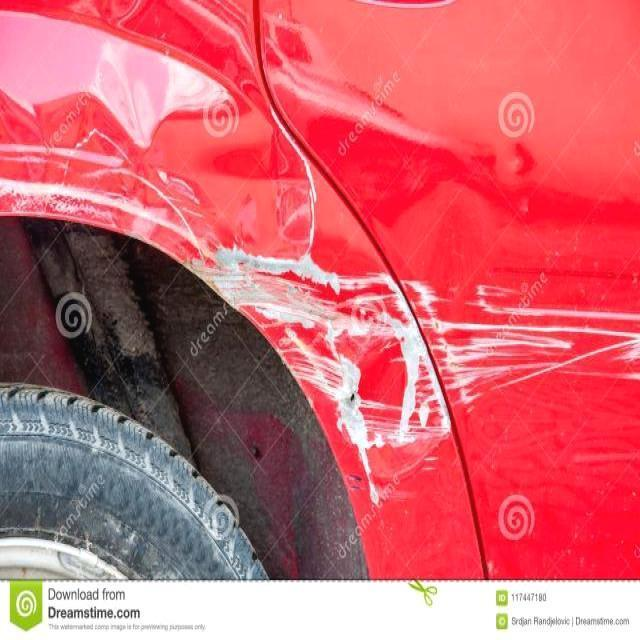minor: (0, 11, 240, 149)
moderate: (410, 284, 640, 399), (0, 144, 204, 263)
severe: (188, 249, 454, 528)
